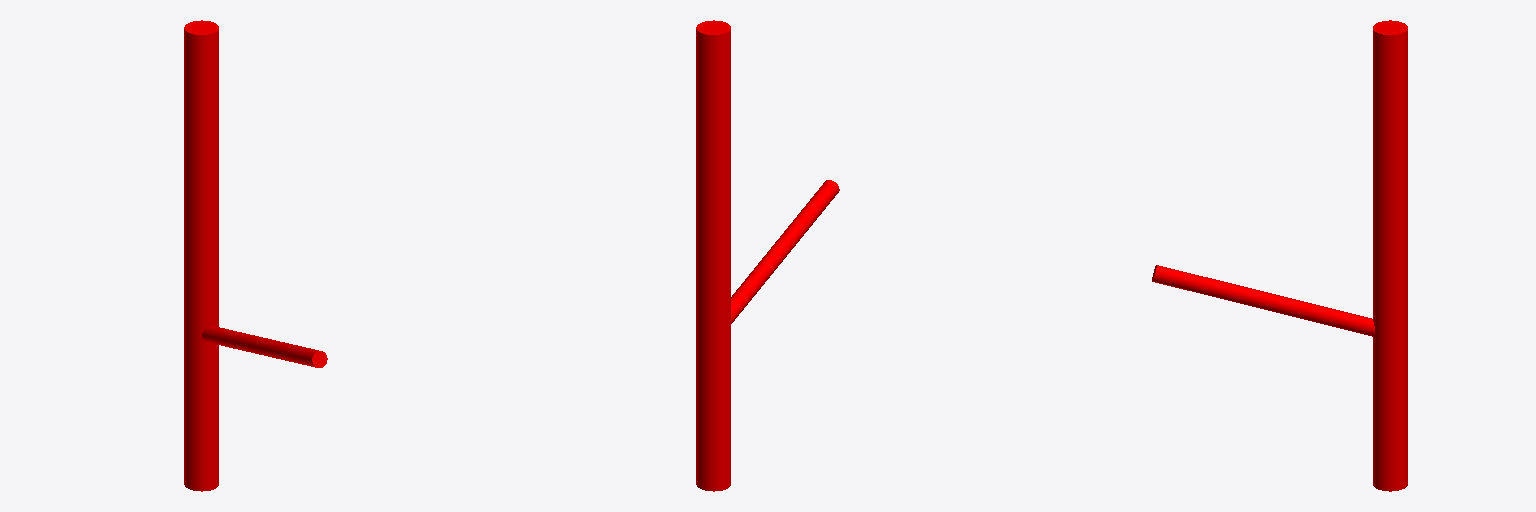
robot.urdf — tree.urdf:
<?xml version="1.0" ?>
<robot name="tree.urdf">
  <link name="baseLink">
    <inertial>
      <origin rpy="0 0 0" xyz="0 0 0"/>
       <mass value=".1"/>
       <inertia ixx="1" ixy="0" ixz="0" iyy="1" iyz="0" izz="1"/>
    </inertial>
    <contact>
      <lateral_friction value="1.0"/>
      <inertia_scaling value="3.0"/>
    </contact>
    <visual>
      <origin rpy="0 0 0" xyz="0 0 0"/>
      <geometry>
        <mesh filename="6.stl" scale="1 1 1" />
      </geometry>
      <material name="red">
        <color rgba="1 0 0 1"/>
      </material>
    </visual>
    <collision>
      <origin rpy="0 0 0" xyz="0 0 0"/>
      <geometry>
        <mesh filename="6_convex.obj" scale="1 1 1" />
      </geometry>
    </collision>
  </link>
</robot>

--- Render facts (derived) ---
3 views of the same robot in one strip: view 1: azimuth 30°, elevation 25°; view 2: azimuth 150°, elevation 25°; view 3: azimuth 270°, elevation 25° (orthographic).
Robot: tree.urdf — 1 links, 0 joints (none); root link baseLink; default pose: every joint at zero.
Links seen in each view (by area): view 1: baseLink; view 2: baseLink; view 3: baseLink.
Link boxes in pixels (x1,y1,x2,y2): baseLink: (184, 20, 327, 491); baseLink: (696, 20, 839, 491); baseLink: (1152, 20, 1407, 491).
Bounding box of the posed robot: 0.0306 × 0.224 × 0.4406 m (x, y, z).
Meshes: 1 distinct files referenced, 1 mesh visuals loaded (1 binary STL).